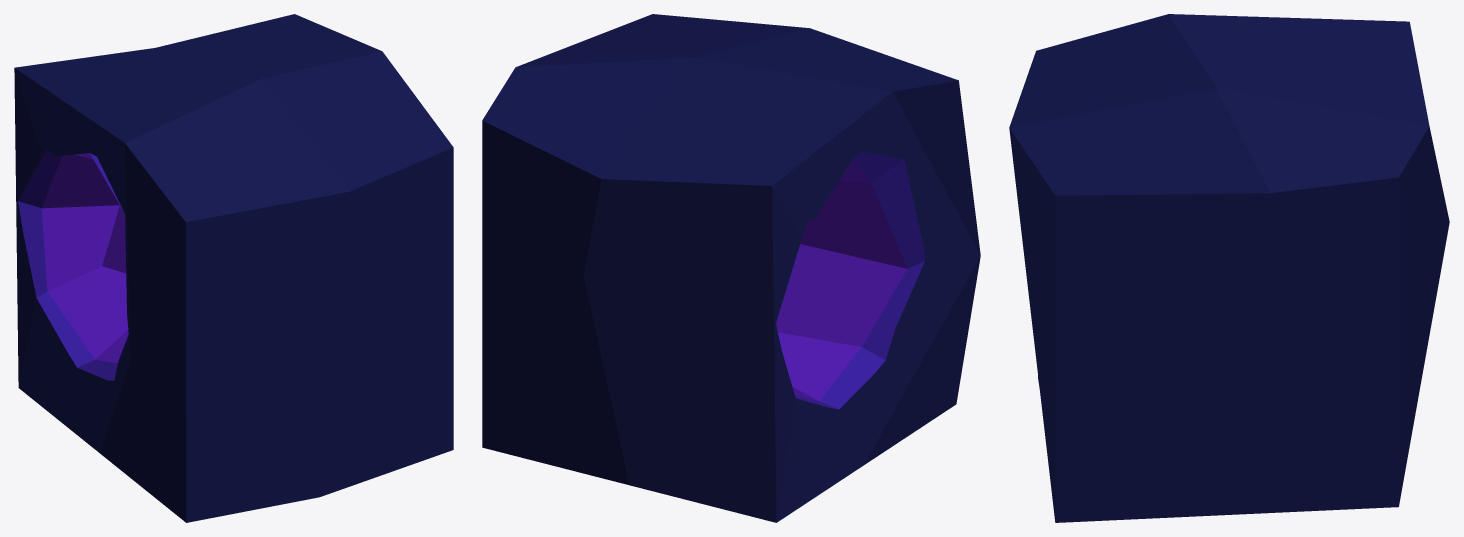
File: DeformedCube.fbx
3 renders of one model, left to right at view 1: azimuth 30°, elevation 25°; view 2: azimuth 150°, elevation 25°; view 3: azimuth 270°, elevation 25°, orthographic. The views are drawn at different scales.
Visible parts, largest first — view 1: Cube; view 2: Cube; view 3: Cube.
Part boxes in pixels (<box>): Cube: <box>14,14,453,522</box>; Cube: <box>482,14,980,522</box>; Cube: <box>1009,14,1449,522</box>.
Bounding box in the file's own units: 249 × 248 × 256.
